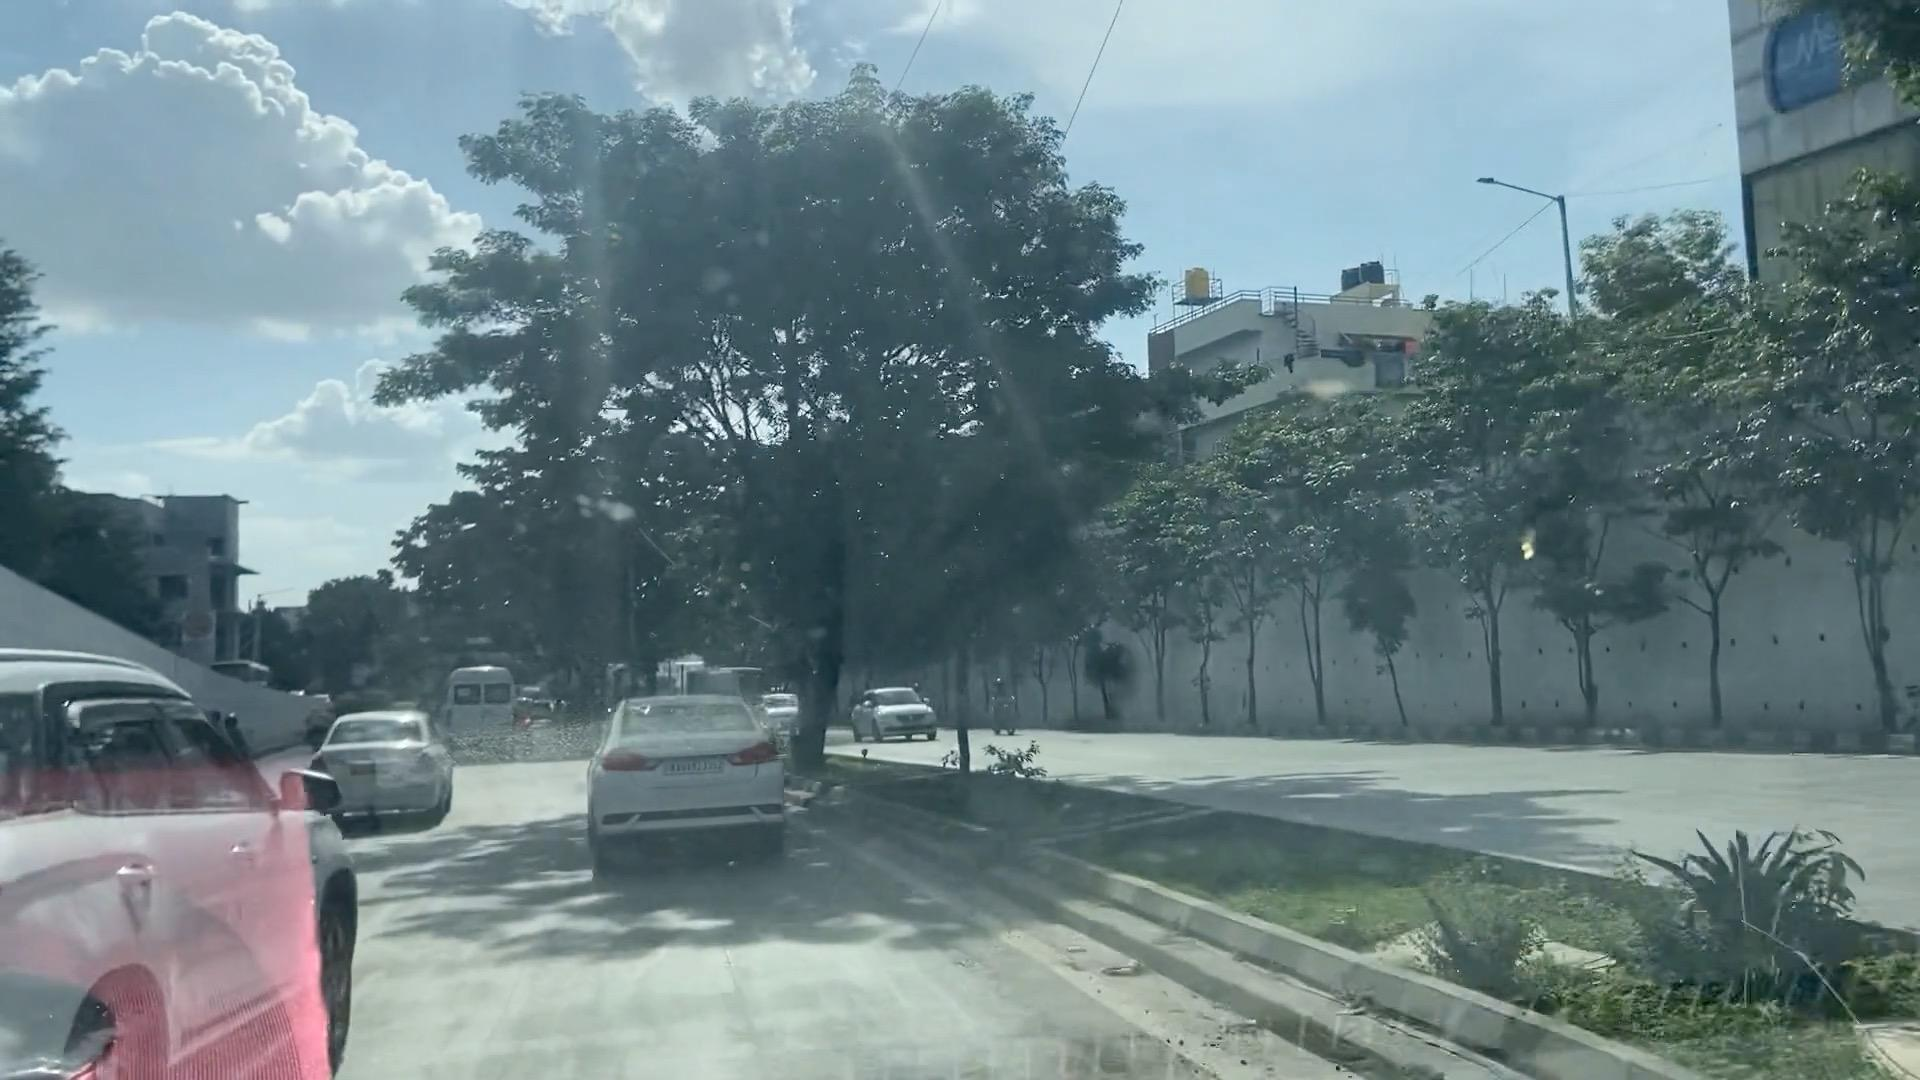LMV: (605, 692, 785, 832), (323, 717, 458, 815)
